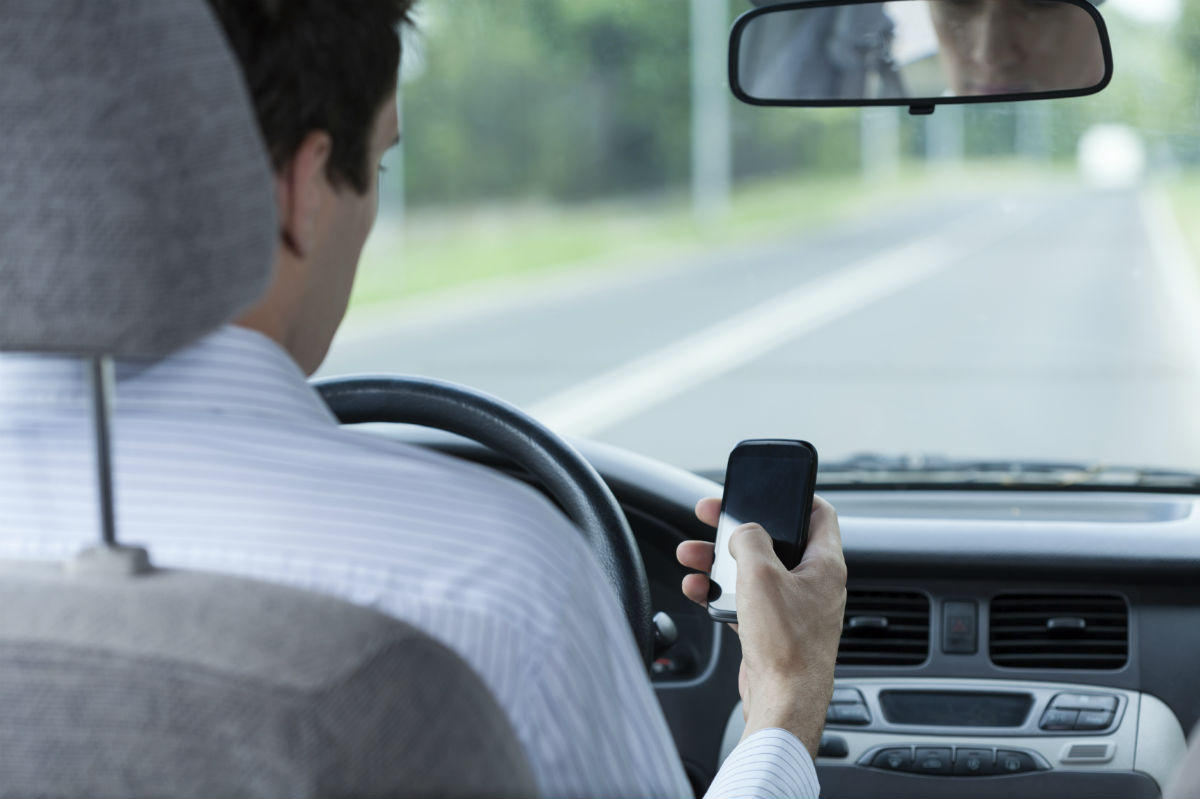smartphone: (707, 437, 818, 624)
